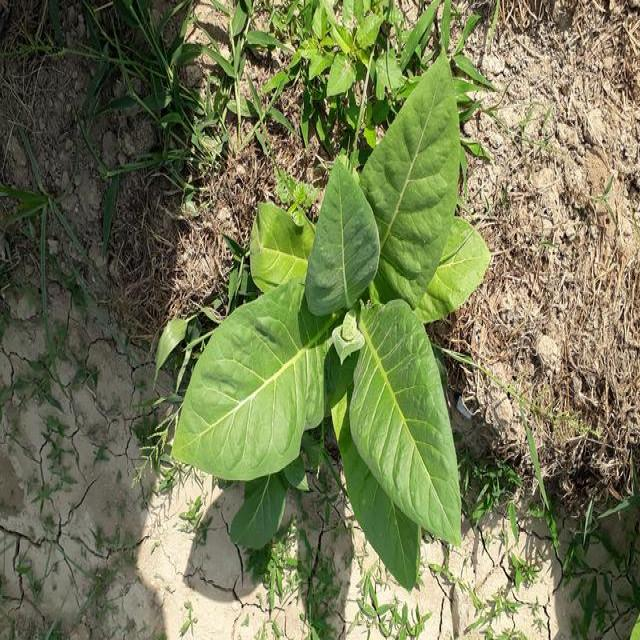crop: (185, 55, 503, 585)
